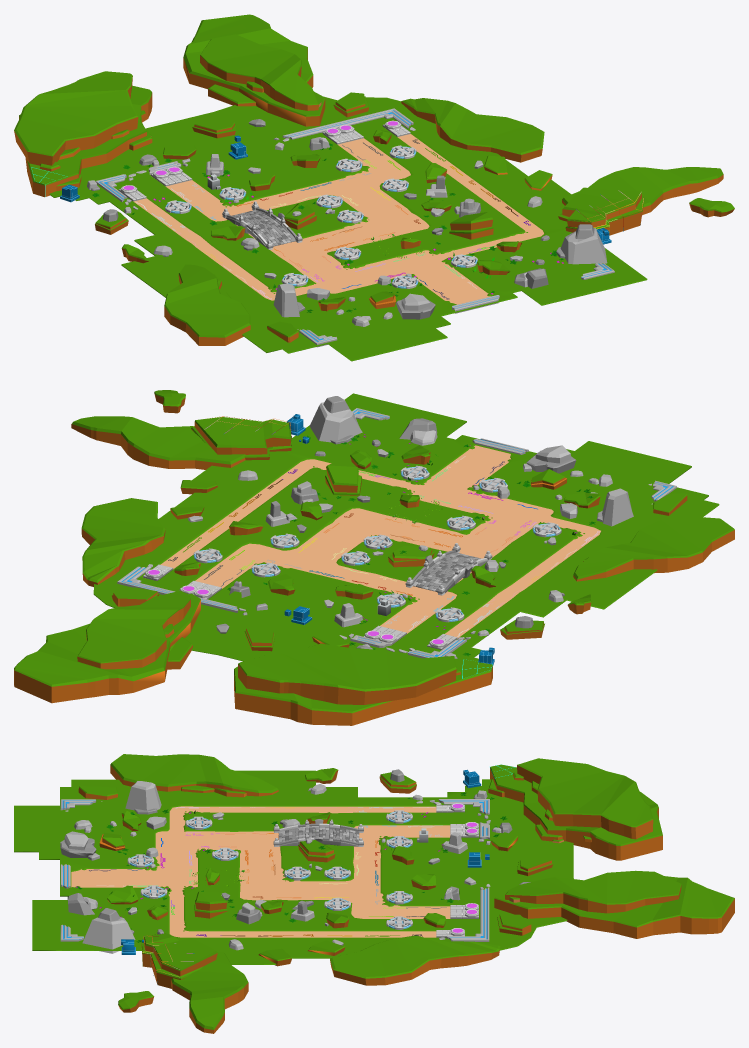
File: GGMeadow.fbx
The picture shows the model from 3 angles, top to bottom: view 1: azimuth 30°, elevation 25°; view 2: azimuth 150°, elevation 25°; view 3: azimuth 270°, elevation 25°; orthographic projection. The views are drawn at different scales.
Visible parts, largest first — view 1: SM_Grass, SM_Path, SM_Rock_40, SM_Frame, New_Bridge_Meadow, SM_PathDecal_029, SM_Turret_07, SM_BigDigiCube3_01, SM_BigBush_13; view 2: SM_Grass, SM_Path, SM_Rock_40, SM_Frame, New_Bridge_Meadow, SM_PathDecal_029, SM_Turret_07, SM_BigDigiCube3_01, SM_BigBush_13; view 3: SM_Grass, SM_Path, SM_Rock_40, SM_Frame, New_Bridge_Meadow, SM_PathDecal_029, SM_Turret_07, SM_BigDigiCube3_01, SM_BigBush_13.
Boxes of the visible parts, x1=… form: SM_Grass: x1=14, y1=14, x2=734, y2=361; SM_Path: x1=133, y1=134, x2=543, y2=304; SM_Rock_40: x1=87, y1=119, x2=607, y2=326; SM_Frame: x1=95, y1=108, x2=614, y2=347; New_Bridge_Meadow: x1=222, y1=201, x2=302, y2=249; SM_PathDecal_029: x1=135, y1=139, x2=530, y2=299; SM_Turret_07: x1=118, y1=120, x2=410, y2=201; SM_BigDigiCube3_01: x1=60, y1=135, x2=611, y2=244; SM_BigBush_13: x1=92, y1=143, x2=563, y2=312; SM_Grass: x1=14, y1=390, x2=734, y2=725; SM_Path: x1=160, y1=445, x2=600, y2=638; SM_Rock_40: x1=187, y1=396, x2=633, y2=658; SM_Frame: x1=117, y1=408, x2=676, y2=658; New_Bridge_Meadow: x1=405, y1=543, x2=492, y2=595; SM_PathDecal_029: x1=168, y1=456, x2=599, y2=637; SM_Turret_07: x1=143, y1=564, x2=457, y2=649; SM_BigDigiCube3_01: x1=284, y1=414, x2=494, y2=665; SM_BigBush_13: x1=227, y1=434, x2=595, y2=656; SM_Grass: x1=14, y1=754, x2=734, y2=1033; SM_Path: x1=71, y1=806, x2=450, y2=937; SM_Rock_40: x1=60, y1=769, x2=530, y2=953; SM_Frame: x1=60, y1=799, x2=490, y2=941; New_Bridge_Meadow: x1=273, y1=819, x2=363, y2=846; SM_PathDecal_029: x1=89, y1=807, x2=446, y2=936; SM_Turret_07: x1=436, y1=803, x2=478, y2=937; SM_BigDigiCube3_01: x1=121, y1=769, x2=489, y2=954; SM_BigBush_13: x1=76, y1=792, x2=507, y2=942.
Size of the model in its own units: 125 by 10.28 by 142.
